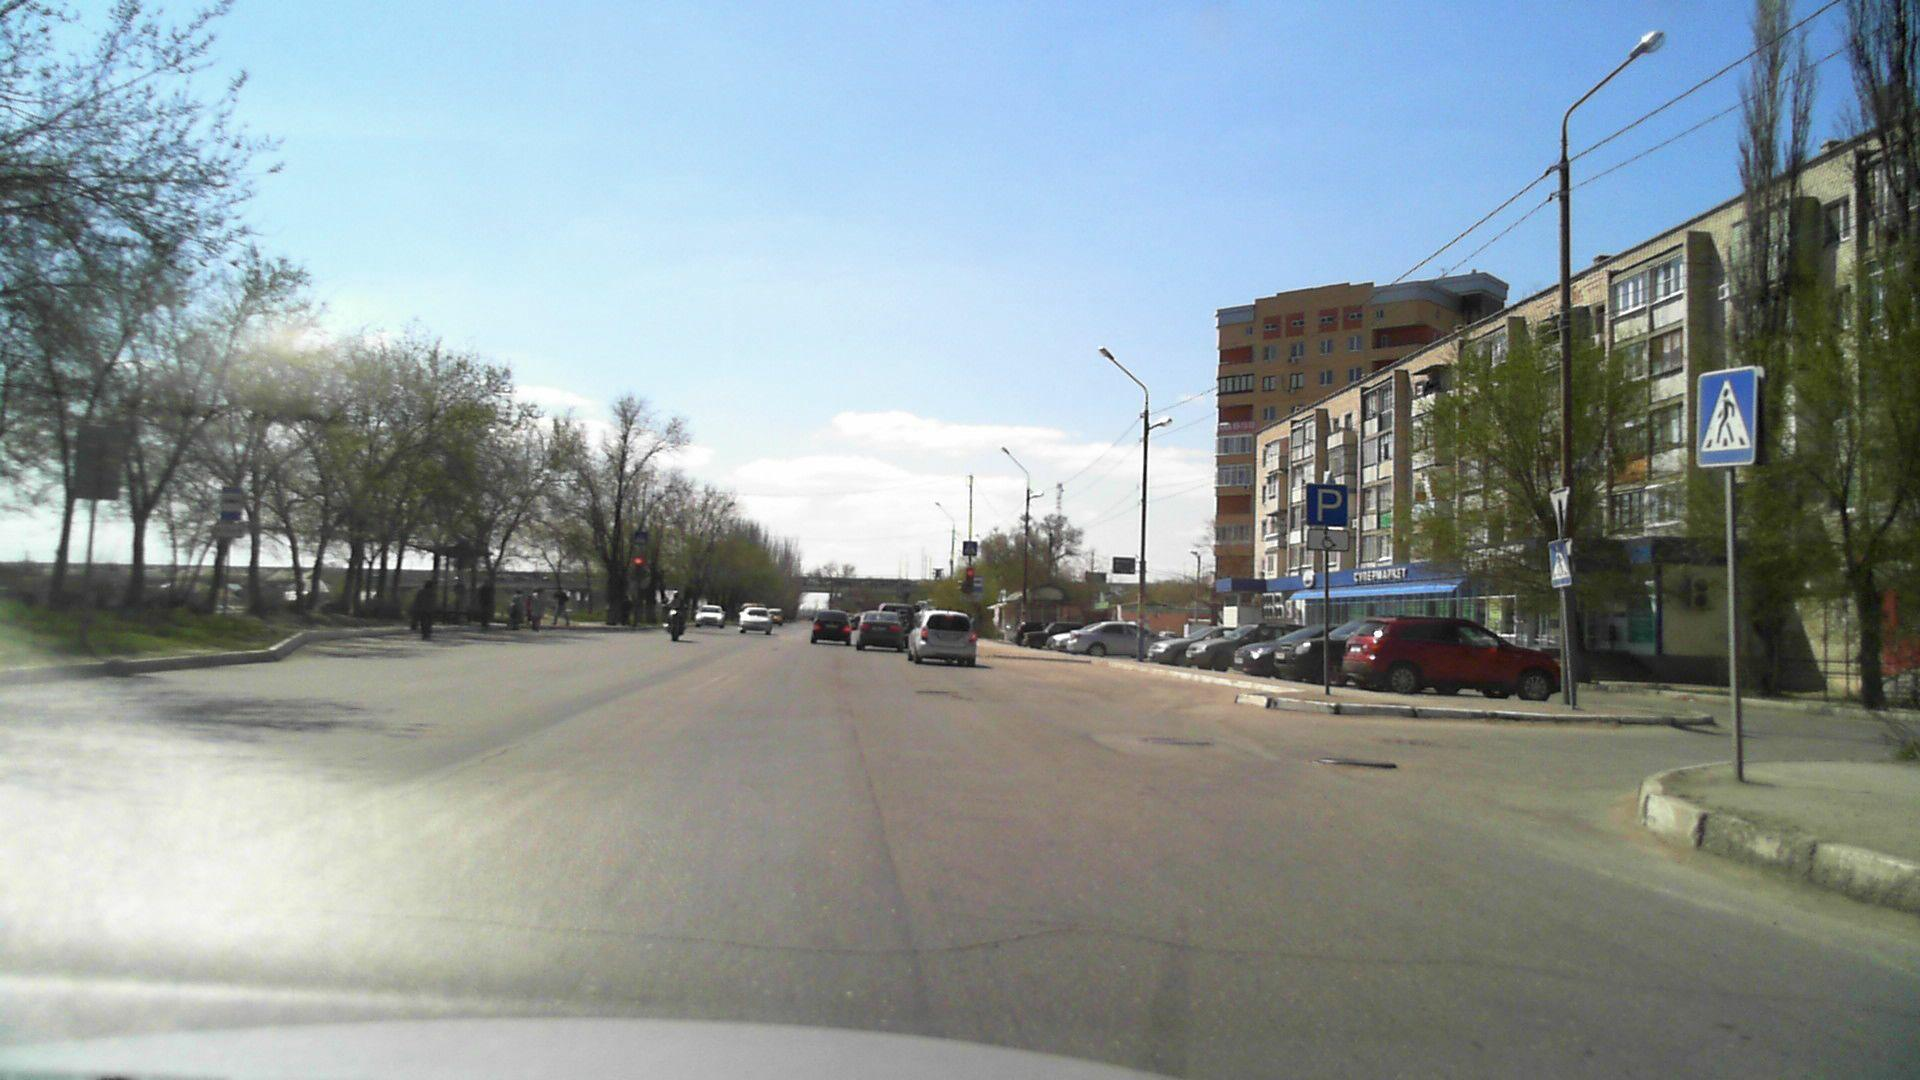5_19_1: (1695, 372, 1759, 465), (963, 539, 978, 559)
5_19_2: (634, 530, 647, 546)
6_4: (1304, 483, 1346, 525)
8_17: (1305, 527, 1350, 551)
